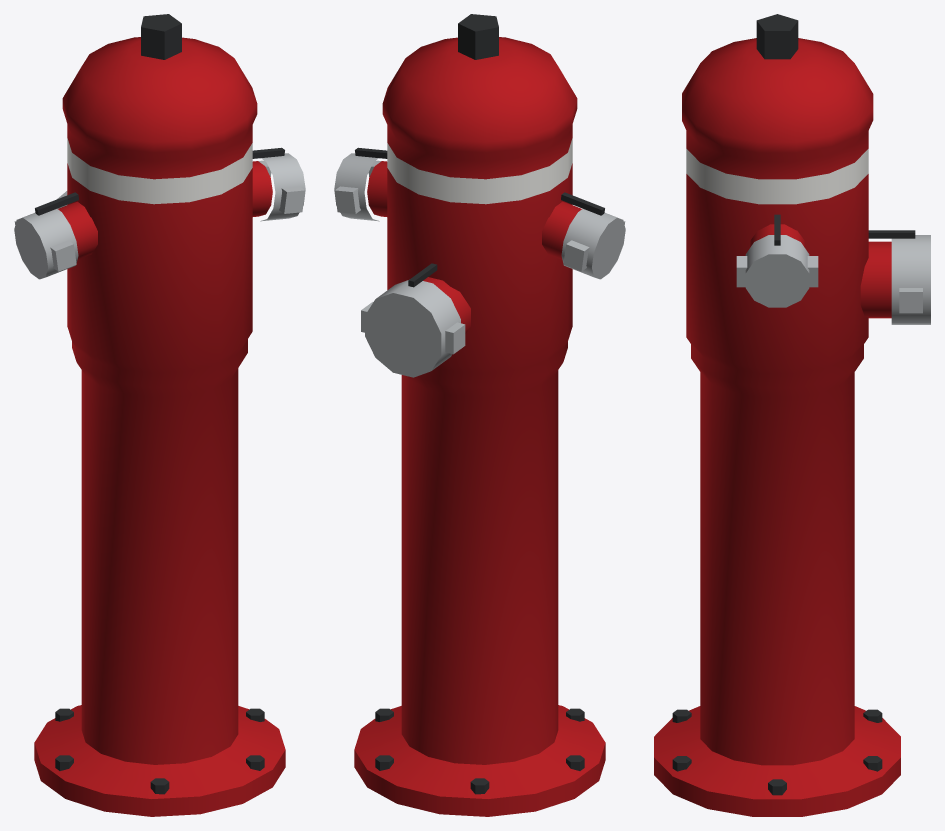
The model's file is hydrant.glb.
The picture shows the model from 3 angles, left to right: view 1: azimuth 30°, elevation 25°; view 2: azimuth 150°, elevation 25°; view 3: azimuth 270°, elevation 25°; orthographic projection.
Visible parts, largest first — view 1: hydrant; view 2: hydrant; view 3: hydrant.
Part boxes in pixels (bbox=[...]): hydrant: bbox=[14, 14, 305, 816]; hydrant: bbox=[334, 14, 625, 816]; hydrant: bbox=[654, 14, 930, 816].
Bounding box in the file's own units: 0.3894 × 1.04 × 0.3519.
